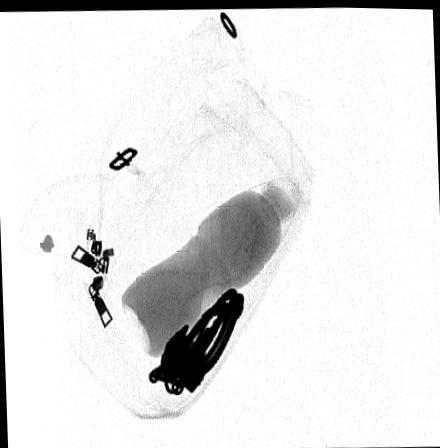HandCuffs: (146, 285, 243, 395)
